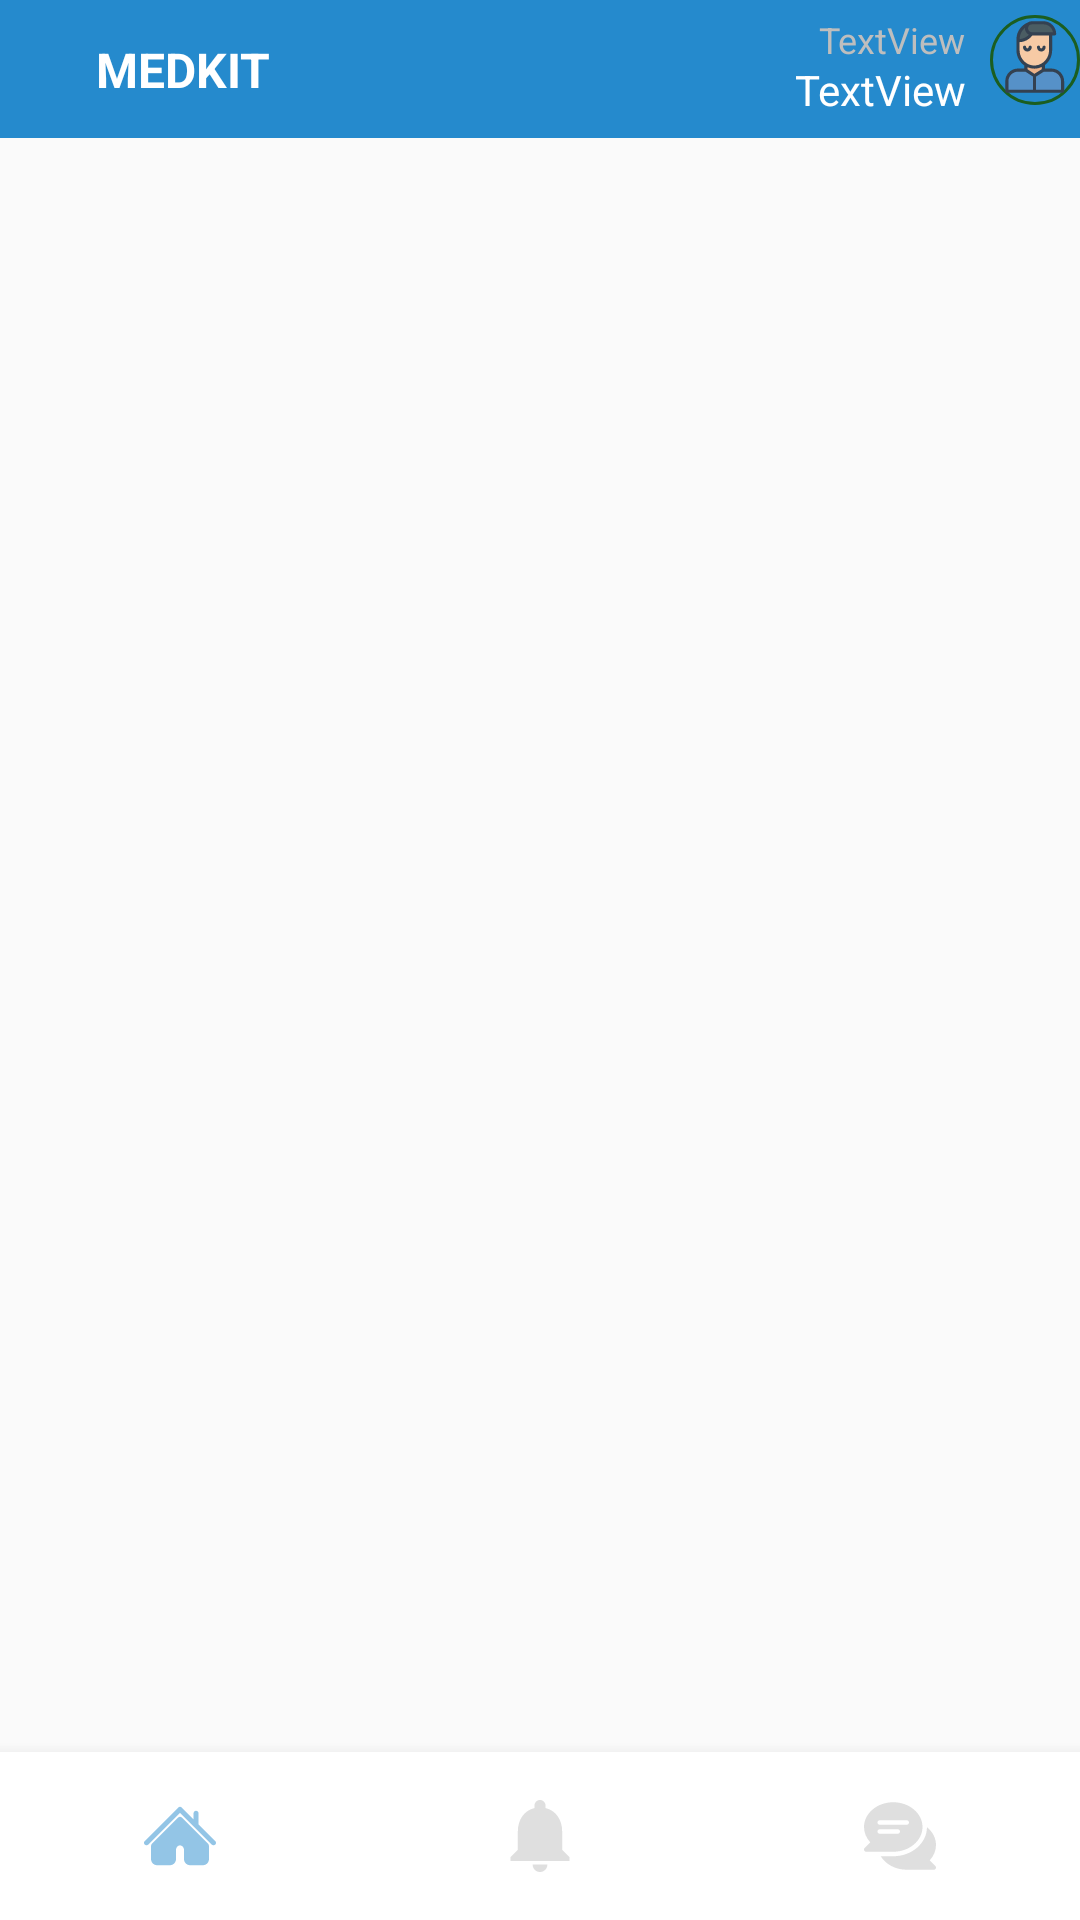

Icons on this 1080 x 1920 Android screen, each with the point to tap as [x,y]:
type user: [1035,60]
